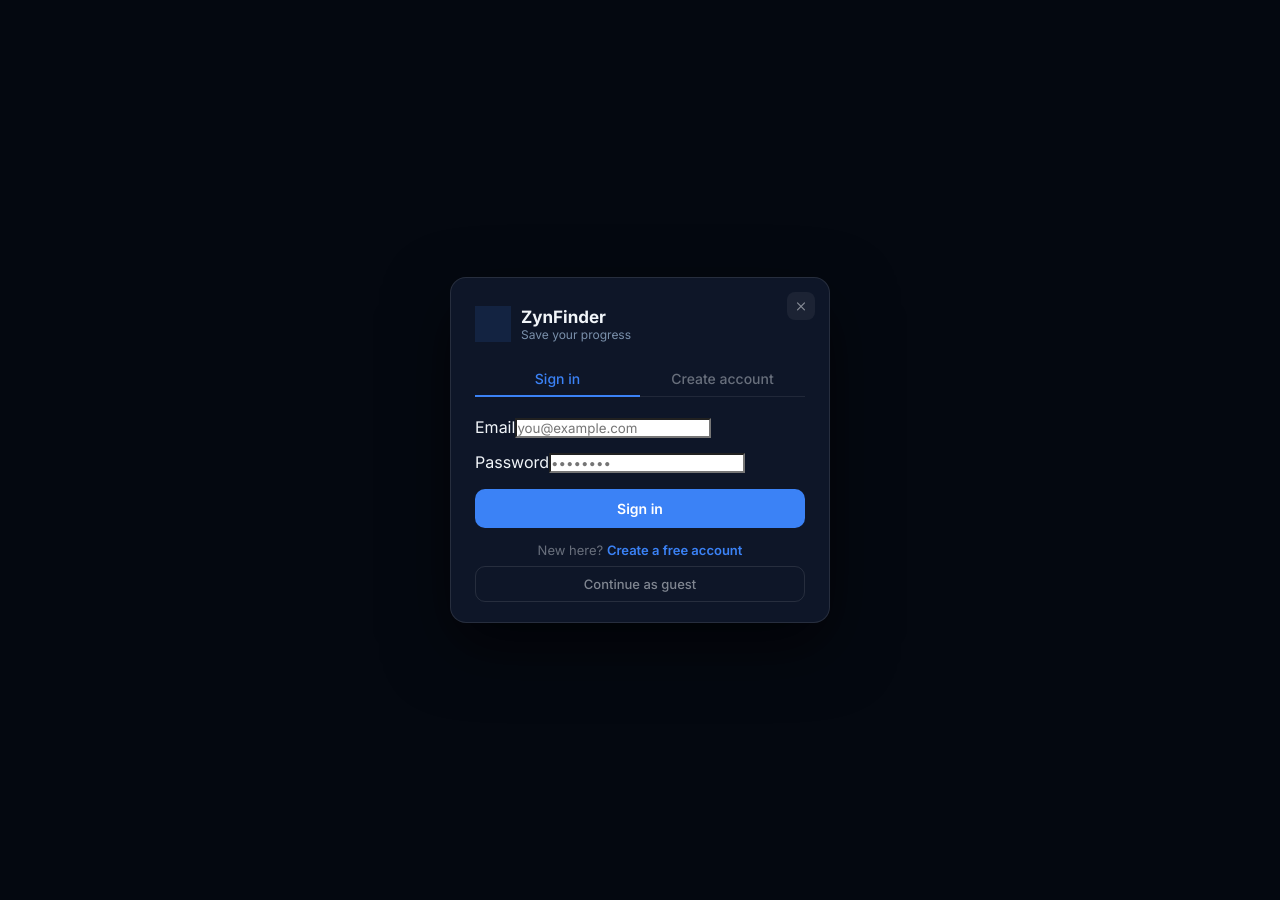
Scenario: AuthModal › mode switching › clears any error when switching modes
Type "a@b.com" into the field labelled "Email" at (613, 428), box x1=515 y1=418 x2=711 y2=438
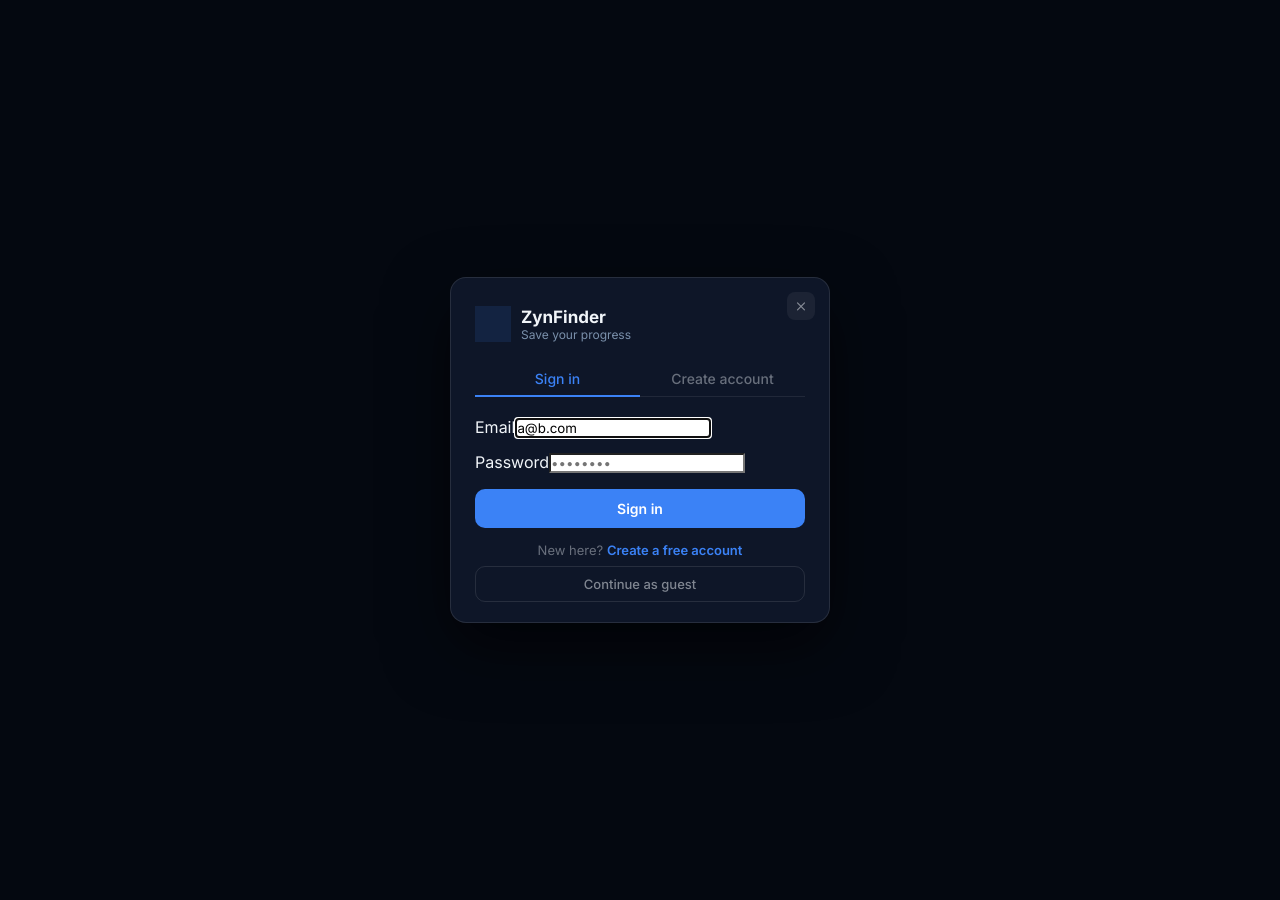
Type "pass123" into the password field labelled "Password" at (647, 463), box x1=549 y1=453 x2=745 y2=473
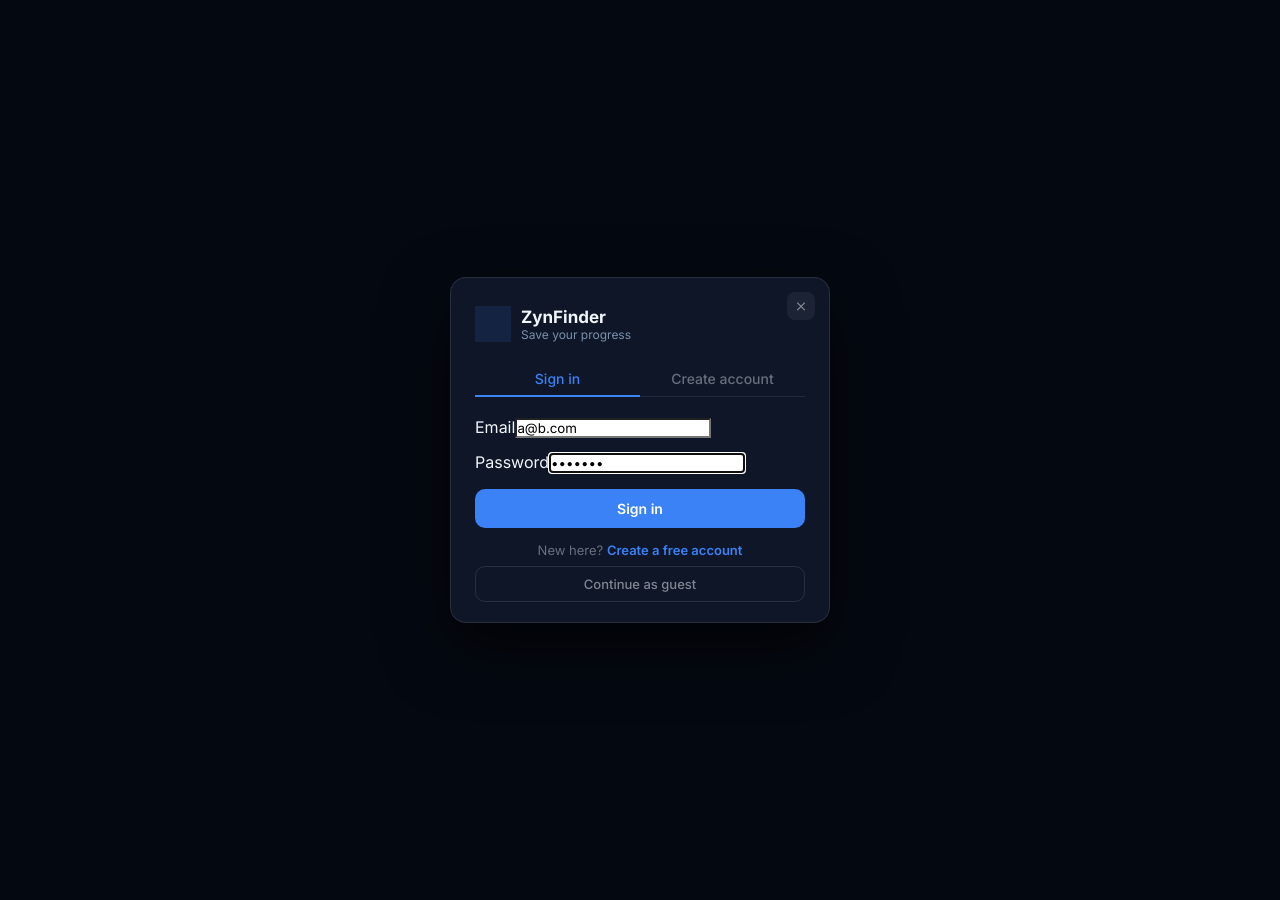
Click the button with class "modal-submit" at (640, 508), box x1=475 y1=489 x2=805 y2=528
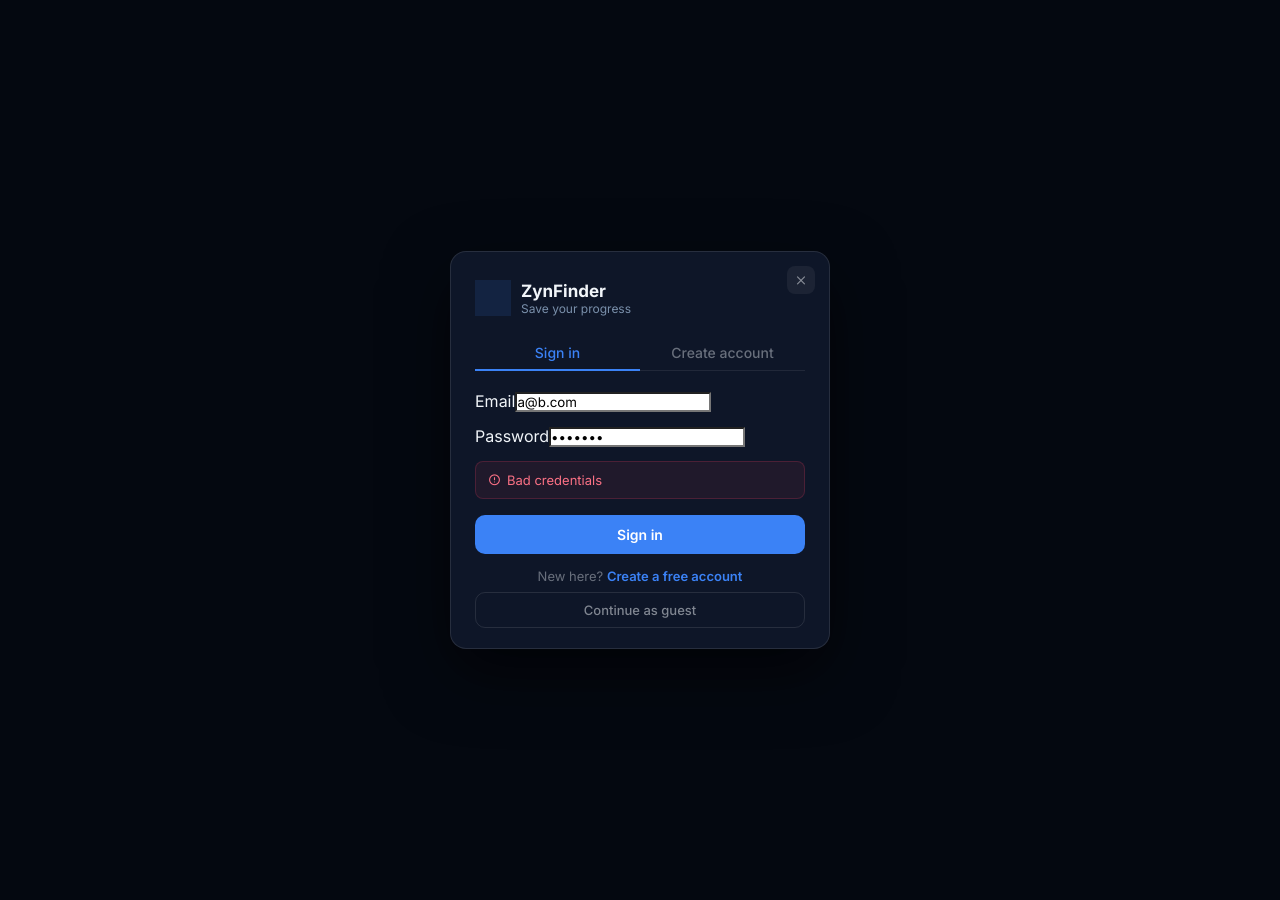
Check: the text "Bad credentials" is shown, box x1=475 y1=461 x2=805 y2=499
# Switch modes — error should disappear
Click the button "Create account" at (722, 354), box x1=640 y1=336 x2=805 y2=371
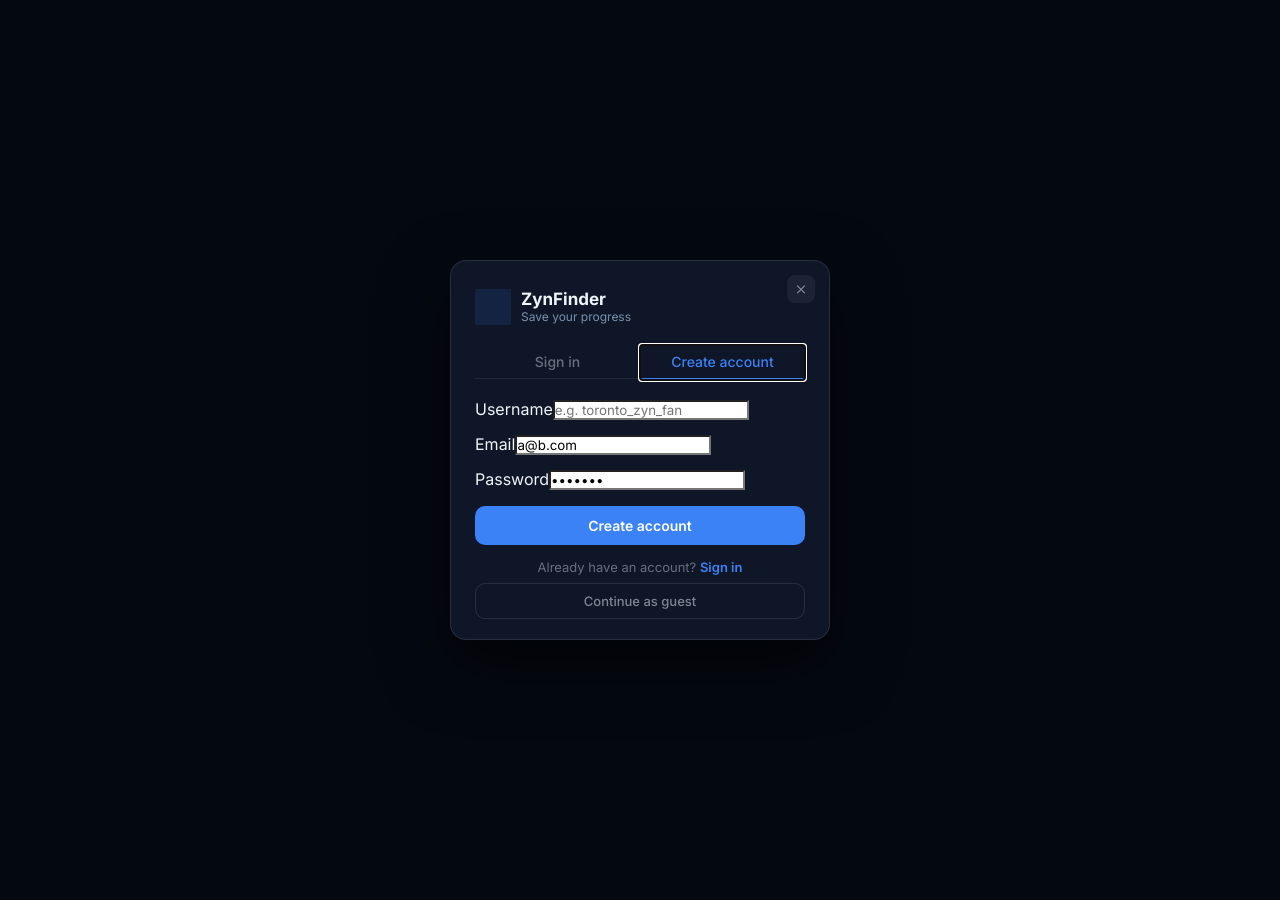
Check: the text "Bad credentials" is gone
